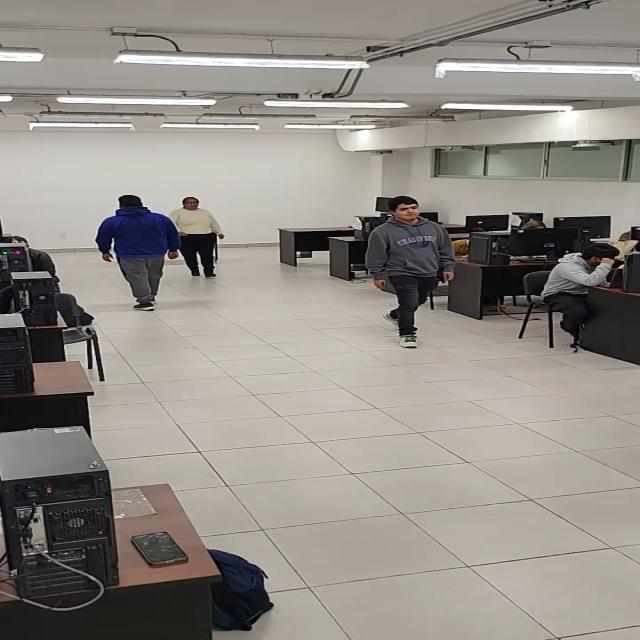Persona: (364, 192, 454, 356), (98, 193, 170, 314), (171, 192, 229, 280)
